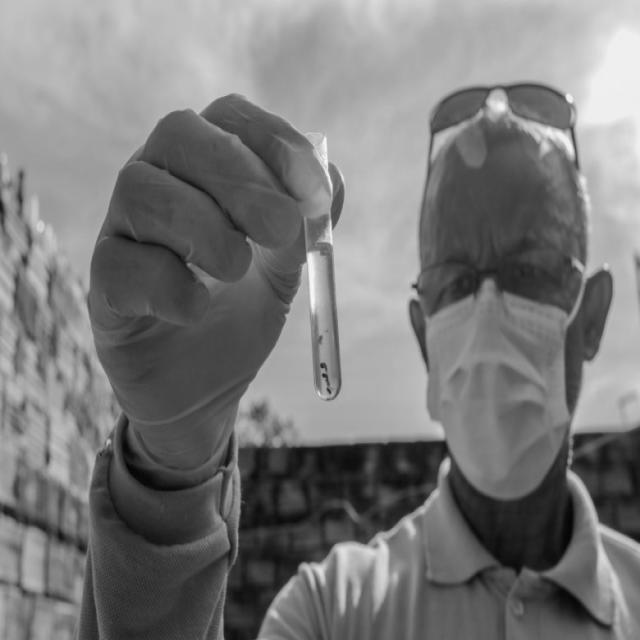larvas: (321, 371, 331, 395), (320, 362, 329, 372)
